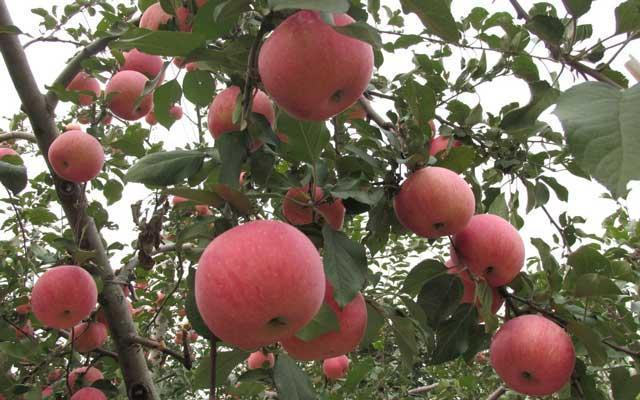apple: (190, 219, 325, 353), (255, 11, 375, 121), (486, 312, 577, 395), (393, 163, 477, 239), (450, 211, 525, 289), (29, 263, 98, 332), (47, 129, 104, 183), (104, 70, 152, 120), (118, 47, 162, 75), (71, 317, 106, 352), (321, 355, 348, 379)
